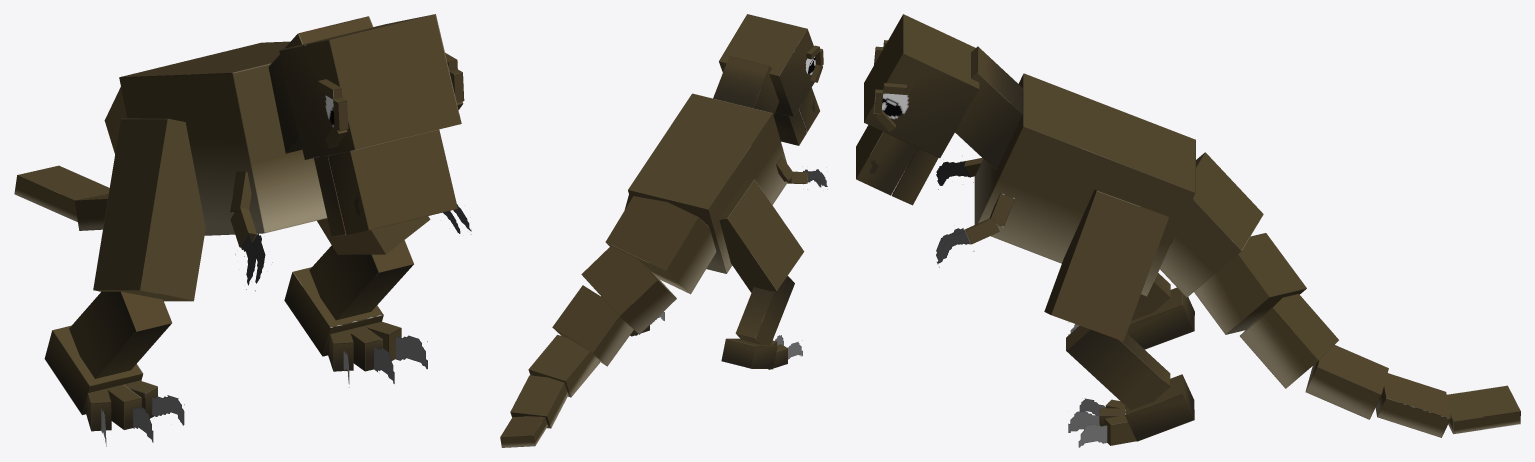
File: animateddinosaur31.obj
3 renders of one model, left to right at view 1: azimuth 30°, elevation 25°; view 2: azimuth 150°, elevation 25°; view 3: azimuth 270°, elevation 25°, orthographic. The views are drawn at different scales.
Parts seen in each view (by area): view 1: Object_6, Object_64, Object_9, Object_56, Object_12, Object_34, Object_37, Object_15, Object_107, Object_53, Object_31, Object_79 (+14 smaller); view 2: Object_6, Object_92, Object_9, Object_64, Object_95, Object_98, Object_53, Object_101, Object_12, Object_104, Object_15, Object_107 (+2 smaller); view 3: Object_6, Object_31, Object_64, Object_92, Object_95, Object_98, Object_34, Object_53, Object_101, Object_104, Object_56, Object_107 (+5 smaller).
Part boxes in pixels (x1,y1,x2,y2): Object_6: (119,41,327,235); Object_64: (279,14,461,159); Object_9: (93,118,205,301); Object_56: (327,129,457,234); Object_12: (69,291,171,378); Object_34: (309,240,413,320); Object_37: (284,267,383,356); Object_15: (44,326,143,414); Object_107: (14,165,109,221); Object_53: (268,16,373,153); Object_31: (317,216,430,254); Object_79: (314,155,345,237); Object_6: (628,93,787,273); Object_92: (605,196,716,294); Object_9: (719,179,804,292); Object_64: (719,14,815,116); Object_95: (581,246,676,334); Object_98: (552,285,633,366); Object_53: (713,56,778,115); Object_101: (528,335,599,397); Object_12: (735,276,794,345); Object_104: (510,375,568,428); Object_15: (721,338,777,369); Object_107: (500,416,547,447); Object_6: (974,73,1195,296); Object_31: (1044,190,1168,341); Object_64: (864,14,979,157); Object_92: (1160,152,1263,297); Object_95: (1194,233,1306,334); Object_98: (1240,294,1338,388); Object_34: (1066,325,1170,410); Object_53: (955,46,1022,170); Object_101: (1305,345,1388,419); Object_104: (1375,373,1450,437); Object_56: (856,125,917,195); Object_107: (1446,385,1520,434).
Size of the model in its own units: 2.26 by 3.21 by 5.32.
